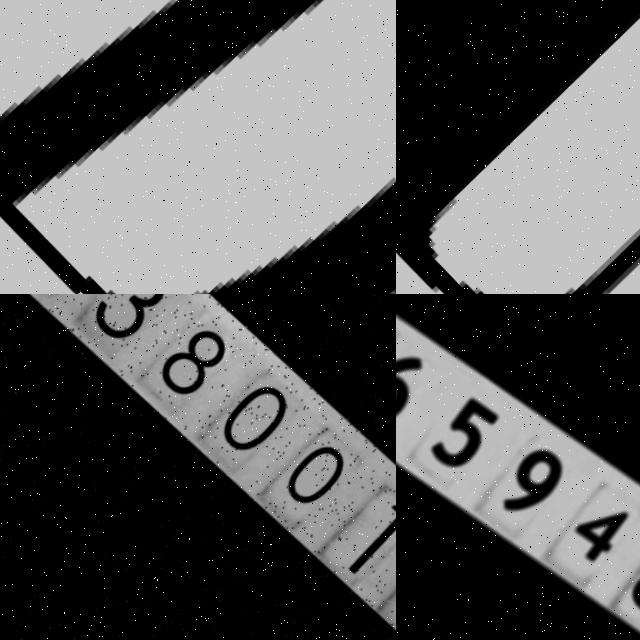0: (196, 356, 322, 477), (265, 419, 377, 527)
1: (317, 474, 396, 589)
3: (67, 294, 199, 364)
4: (547, 475, 640, 583)
5: (404, 373, 527, 491)
6: (396, 319, 461, 447)
8: (137, 301, 258, 417), (607, 522, 640, 639)
9: (472, 422, 598, 542)
D: (0, 0, 396, 294)
U: (396, 0, 640, 294)
